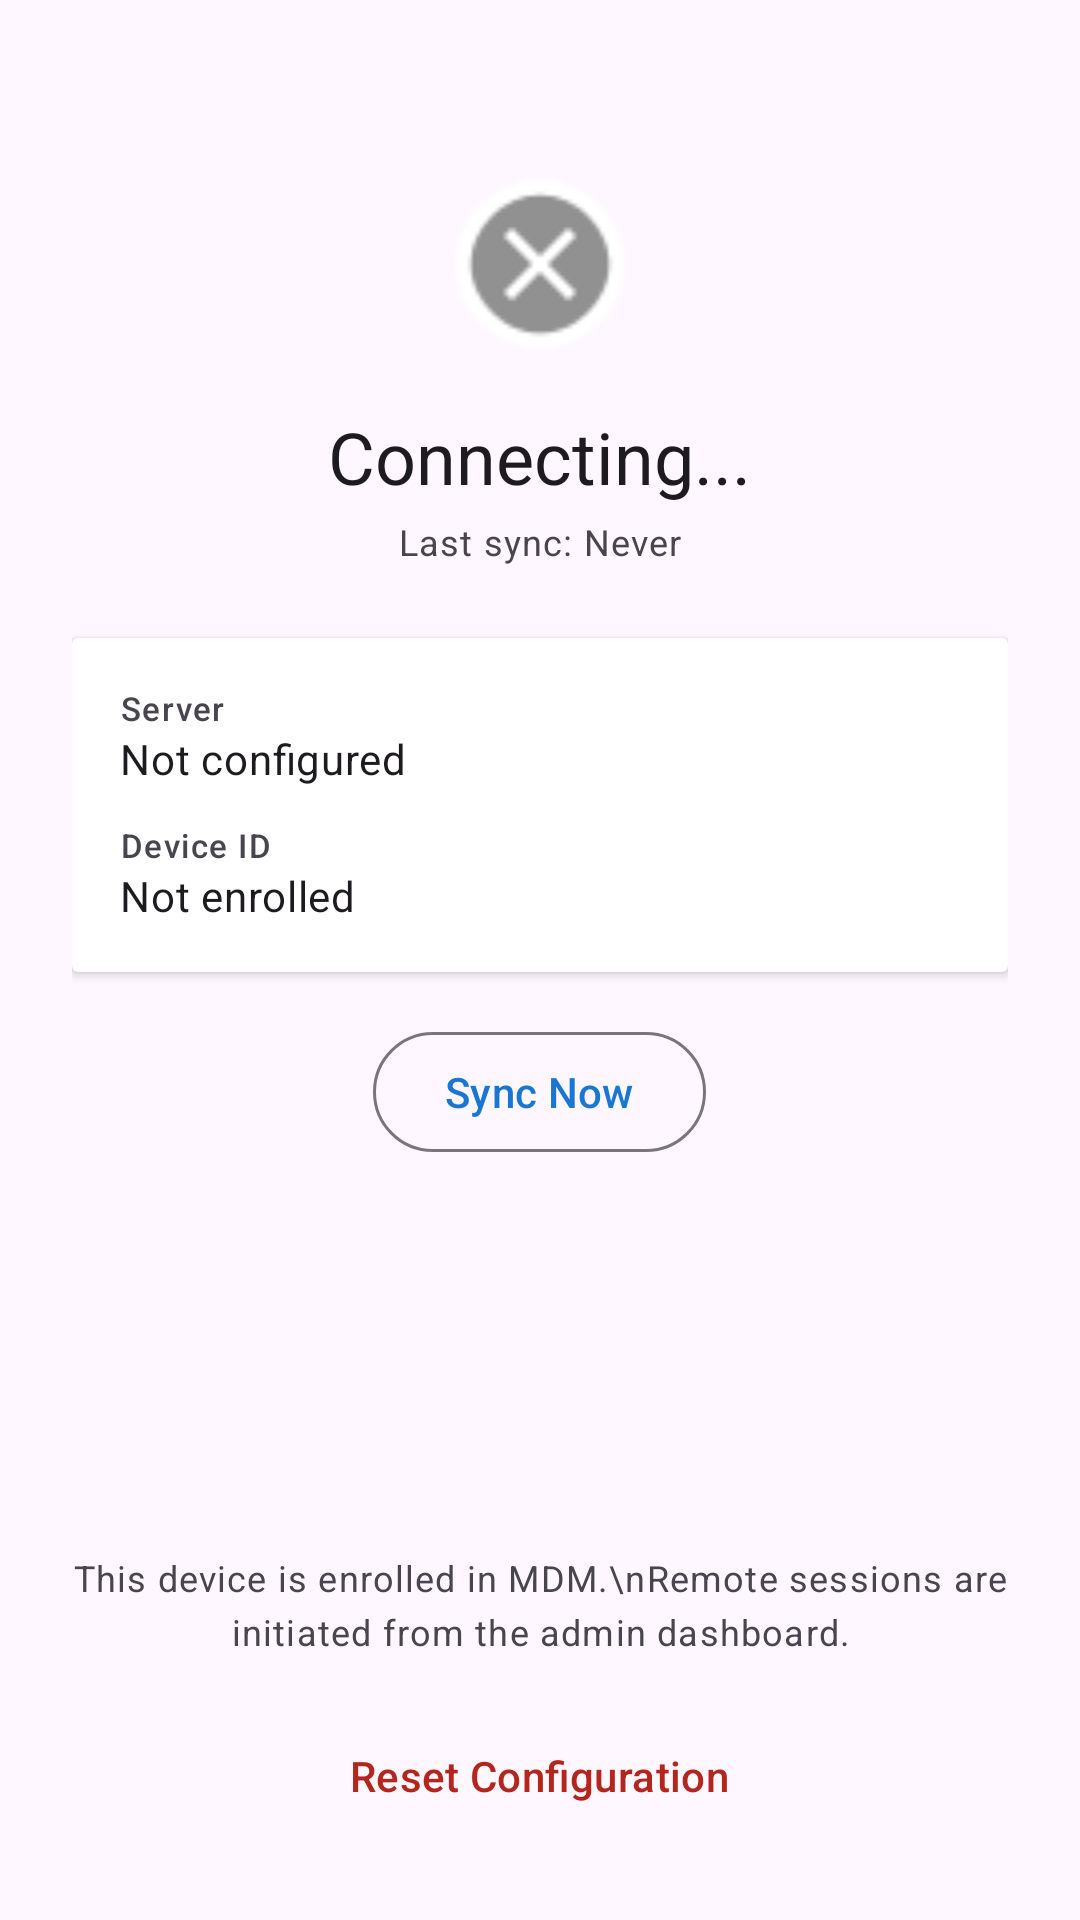

Named icons in this screenshot (1080*1920) and their centers, [x,y]:
presence offline: [539,264]
